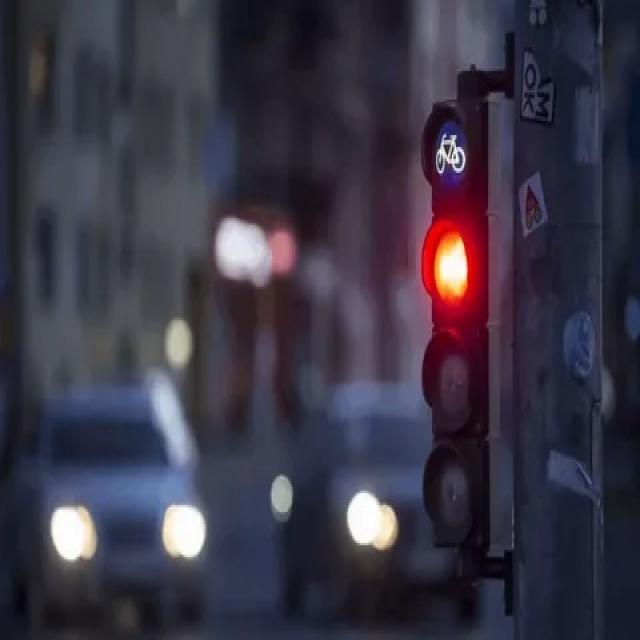kirmizi: (420, 214, 488, 550)
